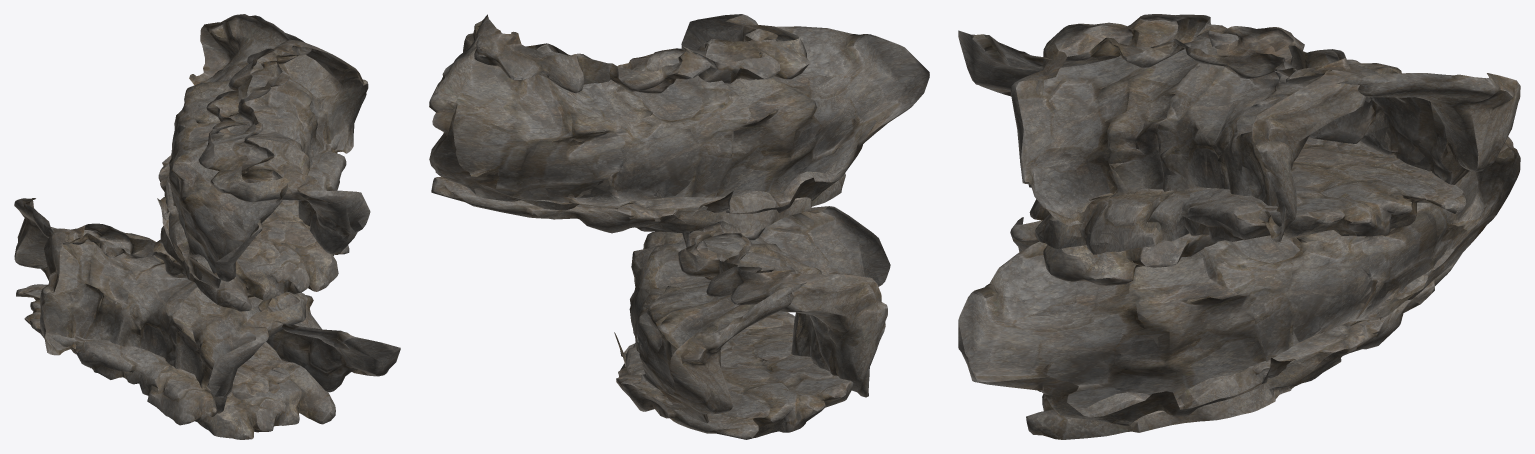
The model's file is Cave_Corridors_A1_Curved_A.fbx.
3 views of the same model, side by side, from view 1: azimuth 30°, elevation 25°; view 2: azimuth 150°, elevation 25°; view 3: azimuth 270°, elevation 25° (orthographic). The views are drawn at different scales.
Parts seen in each view (by area): view 1: Cave_Corridor_A1_Curved_B, Cave_Corridor_A1_Curved_A, Cave_Corridor_A1_Curved_B.001, Cave_Corridor_A1_Curved_A.001; view 2: Cave_Corridor_A1_Curved_B, Cave_Corridor_A1_Curved_B.001, Cave_Corridor_A1_Curved_A, Cave_Corridor_A1_Curved_A.001; view 3: Cave_Corridor_A1_Curved_B, Cave_Corridor_A1_Curved_A, Cave_Corridor_A1_Curved_B.001, Cave_Corridor_A1_Curved_A.001.
Boxes of the visible parts, left/top/right/bottom form: Cave_Corridor_A1_Curved_B: left=158, top=14, right=370, bottom=310; Cave_Corridor_A1_Curved_A: left=14, top=198, right=400, bottom=439; Cave_Corridor_A1_Curved_B.001: left=157, top=14, right=369, bottom=311; Cave_Corridor_A1_Curved_A.001: left=14, top=198, right=400, bottom=439; Cave_Corridor_A1_Curved_B: left=429, top=14, right=929, bottom=233; Cave_Corridor_A1_Curved_B.001: left=429, top=14, right=929, bottom=232; Cave_Corridor_A1_Curved_A: left=614, top=206, right=890, bottom=439; Cave_Corridor_A1_Curved_A.001: left=614, top=206, right=890, bottom=439; Cave_Corridor_A1_Curved_B: left=960, top=14, right=1520, bottom=254; Cave_Corridor_A1_Curved_A: left=958, top=137, right=1520, bottom=439; Cave_Corridor_A1_Curved_B.001: left=958, top=14, right=1519, bottom=253; Cave_Corridor_A1_Curved_A.001: left=958, top=136, right=1520, bottom=439.
Size of the model in its own units: 3615 by 3037 by 3746.
